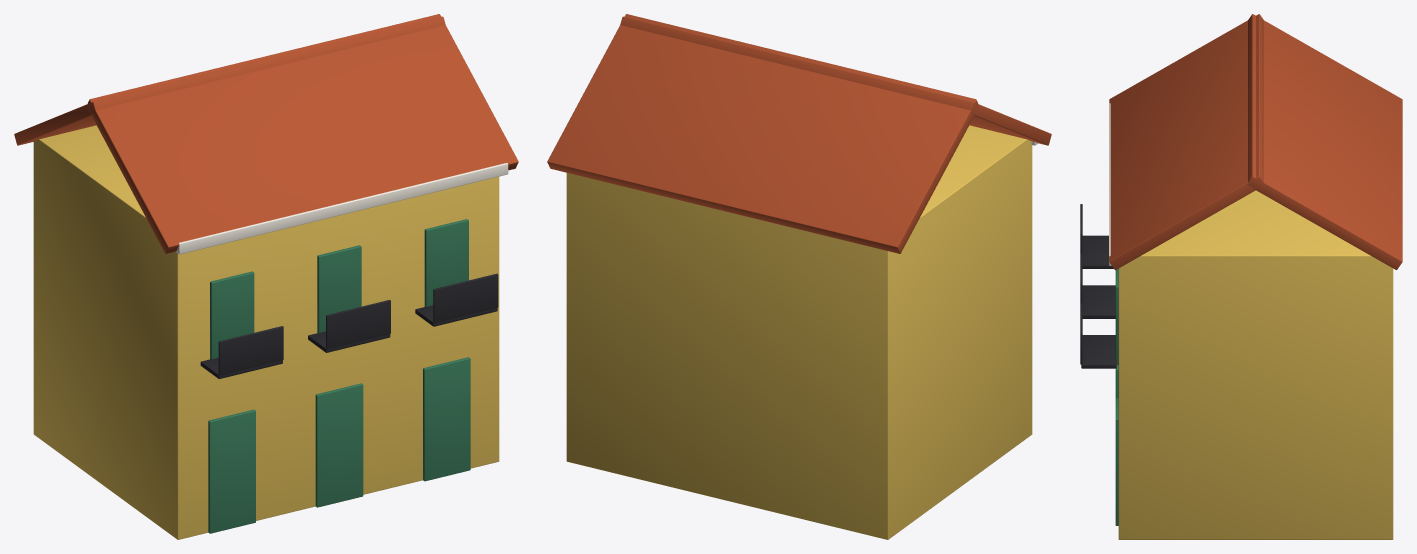
Rendered from rg_colonial_3.glb.
3 renders of one model, left to right at view 1: azimuth 30°, elevation 25°; view 2: azimuth 150°, elevation 25°; view 3: azimuth 270°, elevation 25°, orthographic. The views are drawn at different scales.
Parts seen in each view (by area): view 1: rg_colonial_3; view 2: rg_colonial_3; view 3: rg_colonial_3.
Boxes of the visible parts, x1,y1,x2,y2 form: rg_colonial_3: (14, 14, 518, 539); rg_colonial_3: (547, 14, 1051, 539); rg_colonial_3: (1080, 14, 1402, 539).
Size of the model in its own units: 9.8 by 10.43 by 8.22.
